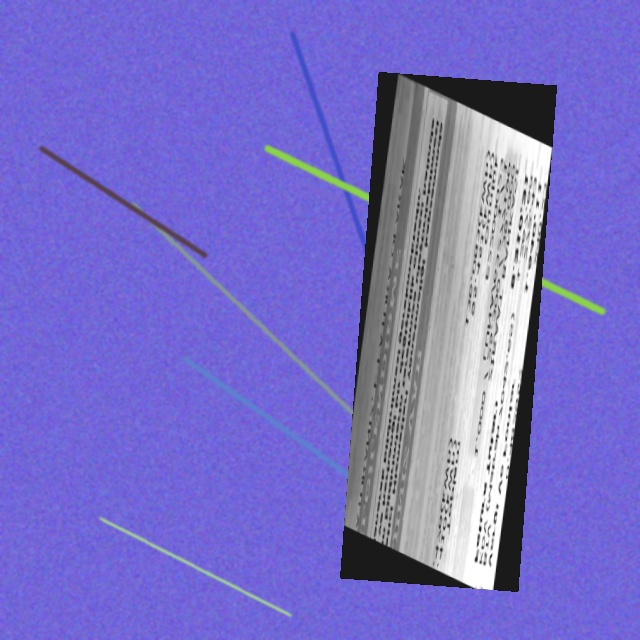electricity-bill: (340, 72, 556, 592)
